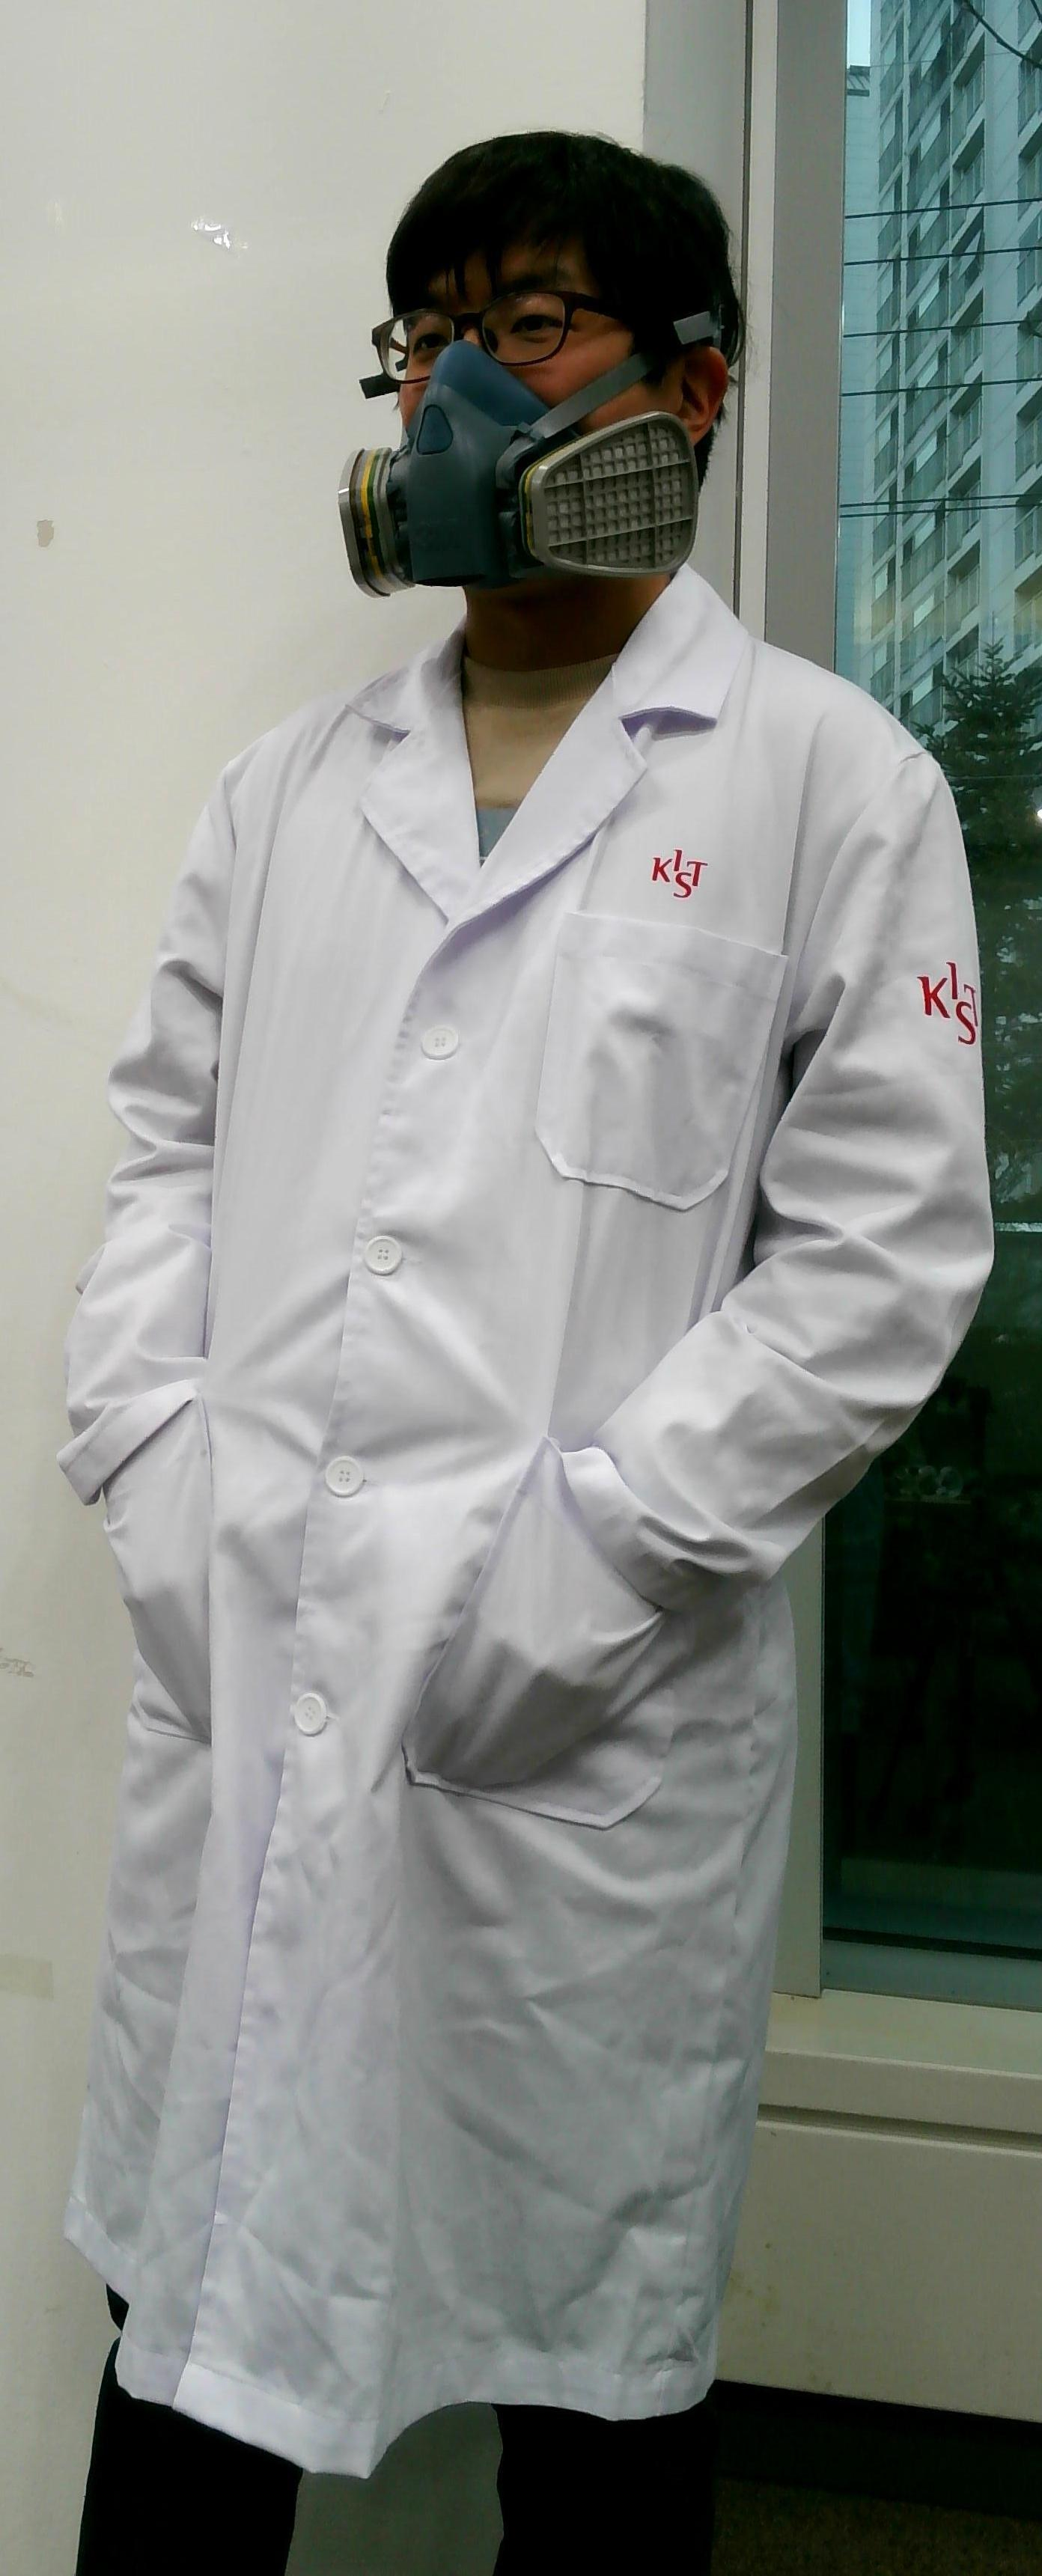lab_coat: (143, 667, 874, 2420)
